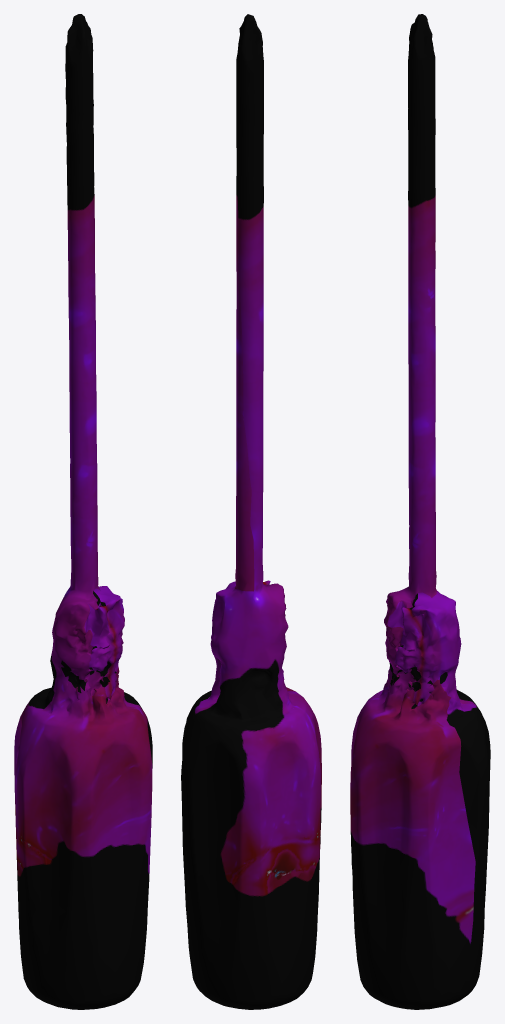
3 views of the same model, side by side, from view 1: azimuth 30°, elevation 25°; view 2: azimuth 150°, elevation 25°; view 3: azimuth 330°, elevation 25° (orthographic).
Visible parts, largest first — view 1: model.018; view 2: model.018; view 3: model.018.
Part boxes in pixels (x1=…): model.018: x1=14, y1=14, x2=152, y2=1009; model.018: x1=181, y1=14, x2=321, y2=1009; model.018: x1=350, y1=14, x2=490, y2=1009.
Bounding box in the file's own units: 0.0363 × 0.2613 × 0.0331.
